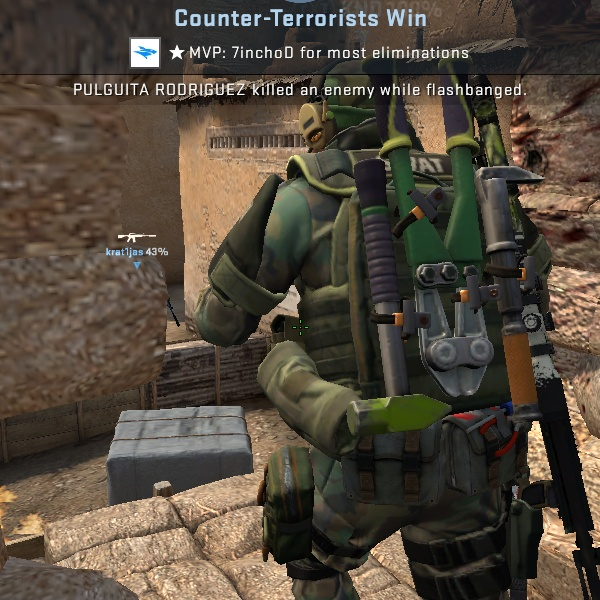ct_body: (145, 32, 600, 600)
ct_head: (283, 47, 432, 176)
